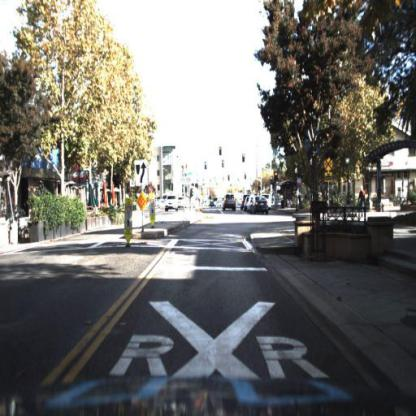car: (162, 192, 180, 215), (222, 194, 239, 215), (255, 198, 271, 216), (178, 194, 186, 212)
pedestrian: (359, 185, 367, 216)
trafficLight-Red: (241, 150, 249, 168), (269, 170, 276, 188), (274, 169, 282, 184), (218, 145, 225, 160)
